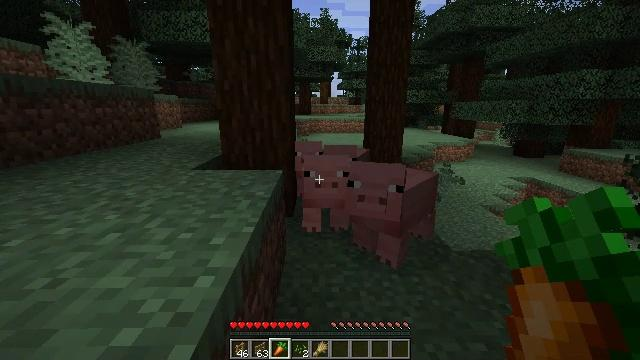pig: (348, 163, 442, 264), (303, 156, 349, 234), (295, 141, 324, 198)
